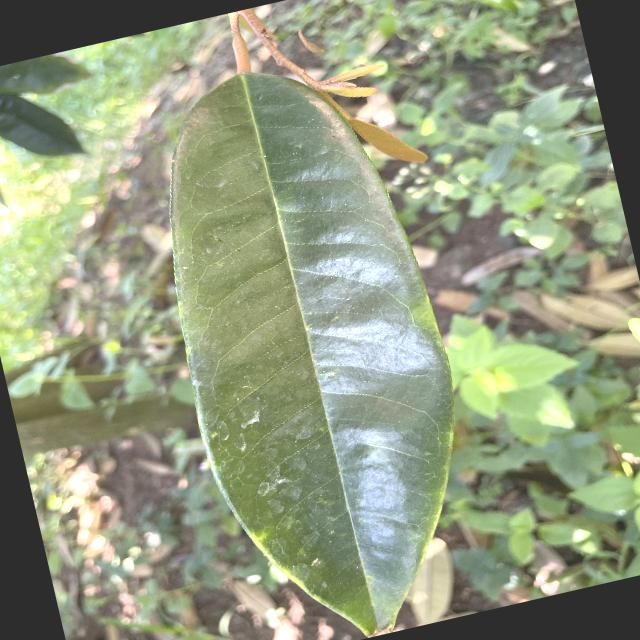No Disease: (104, 27, 514, 639)
